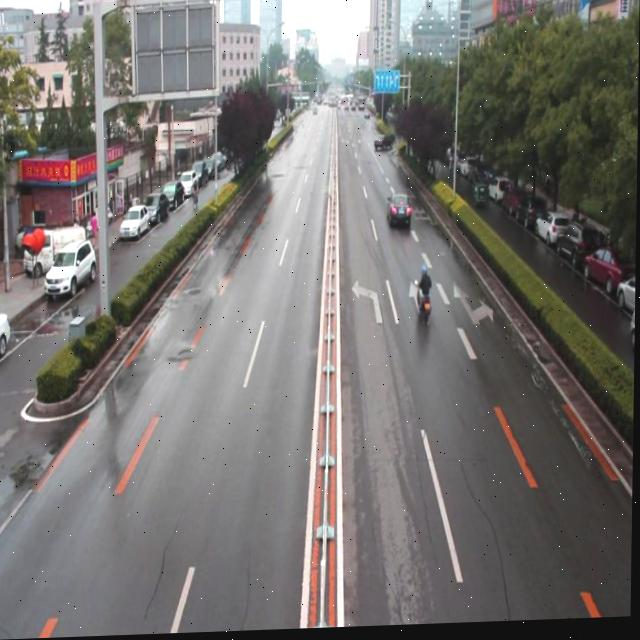car: (387, 193, 411, 230), (372, 137, 392, 156)
